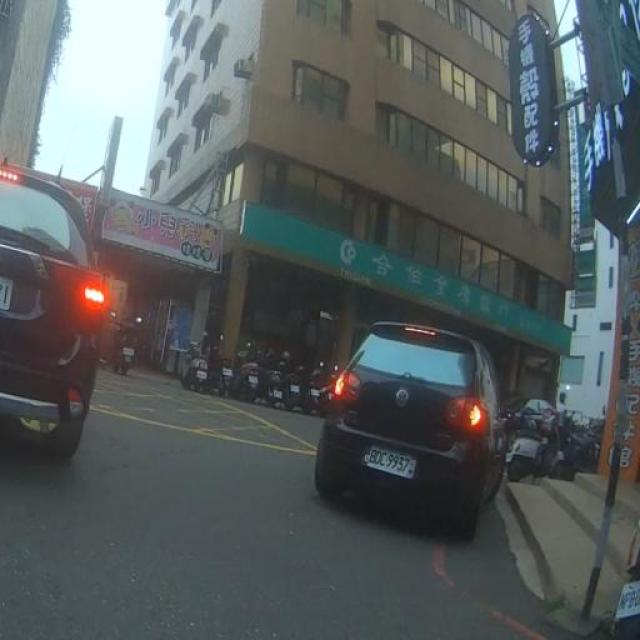illegalparking: (292, 303, 536, 556)
